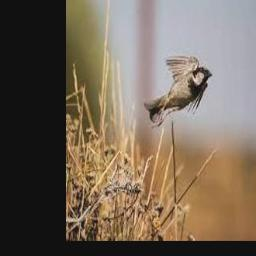Sparrow: (144, 55, 212, 128)
